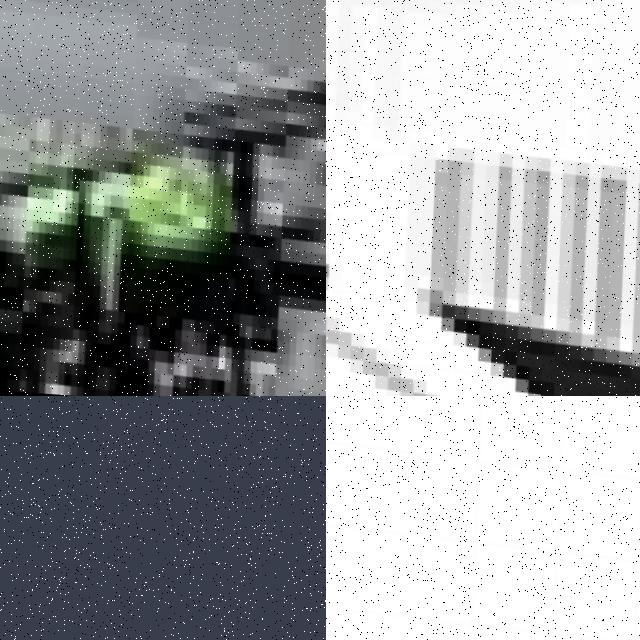drone: (0, 0, 326, 396), (326, 0, 640, 396), (326, 396, 640, 640)
